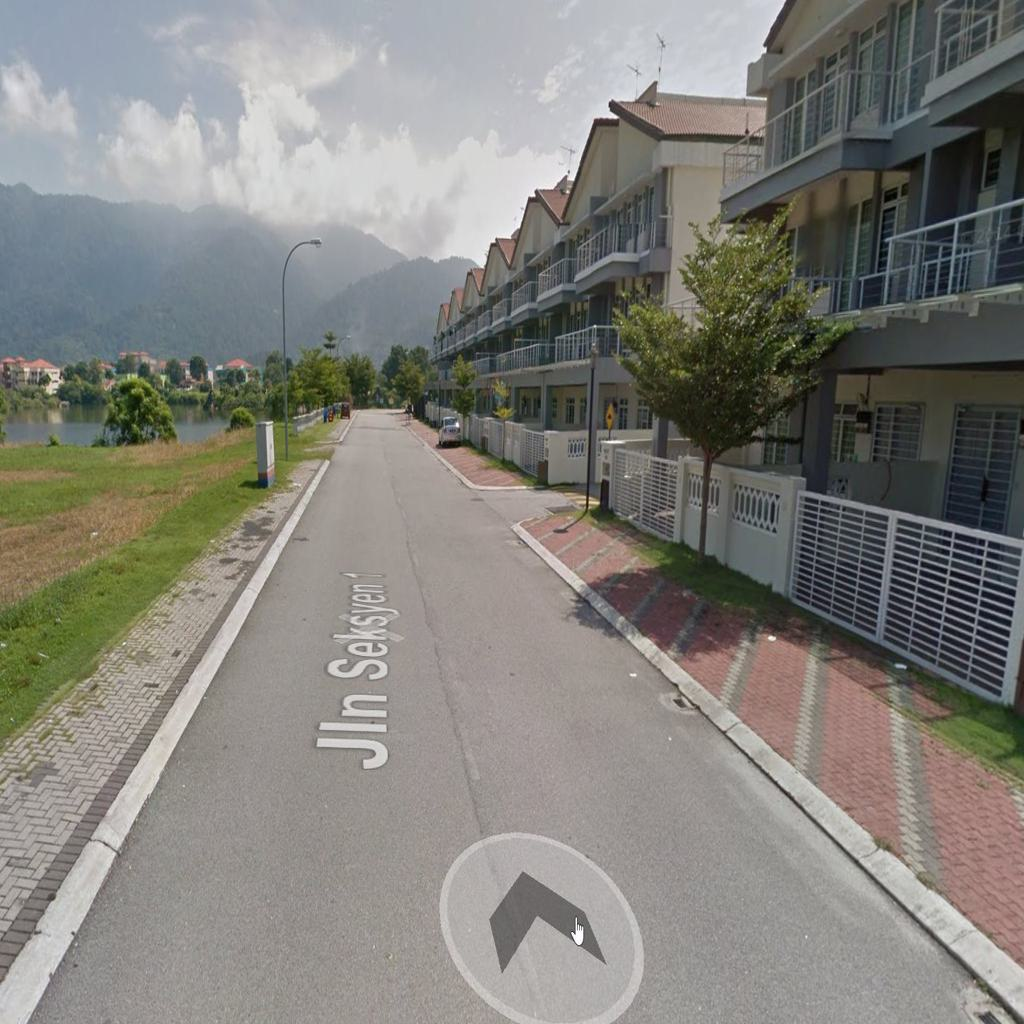Junction: (457, 463, 598, 538)
